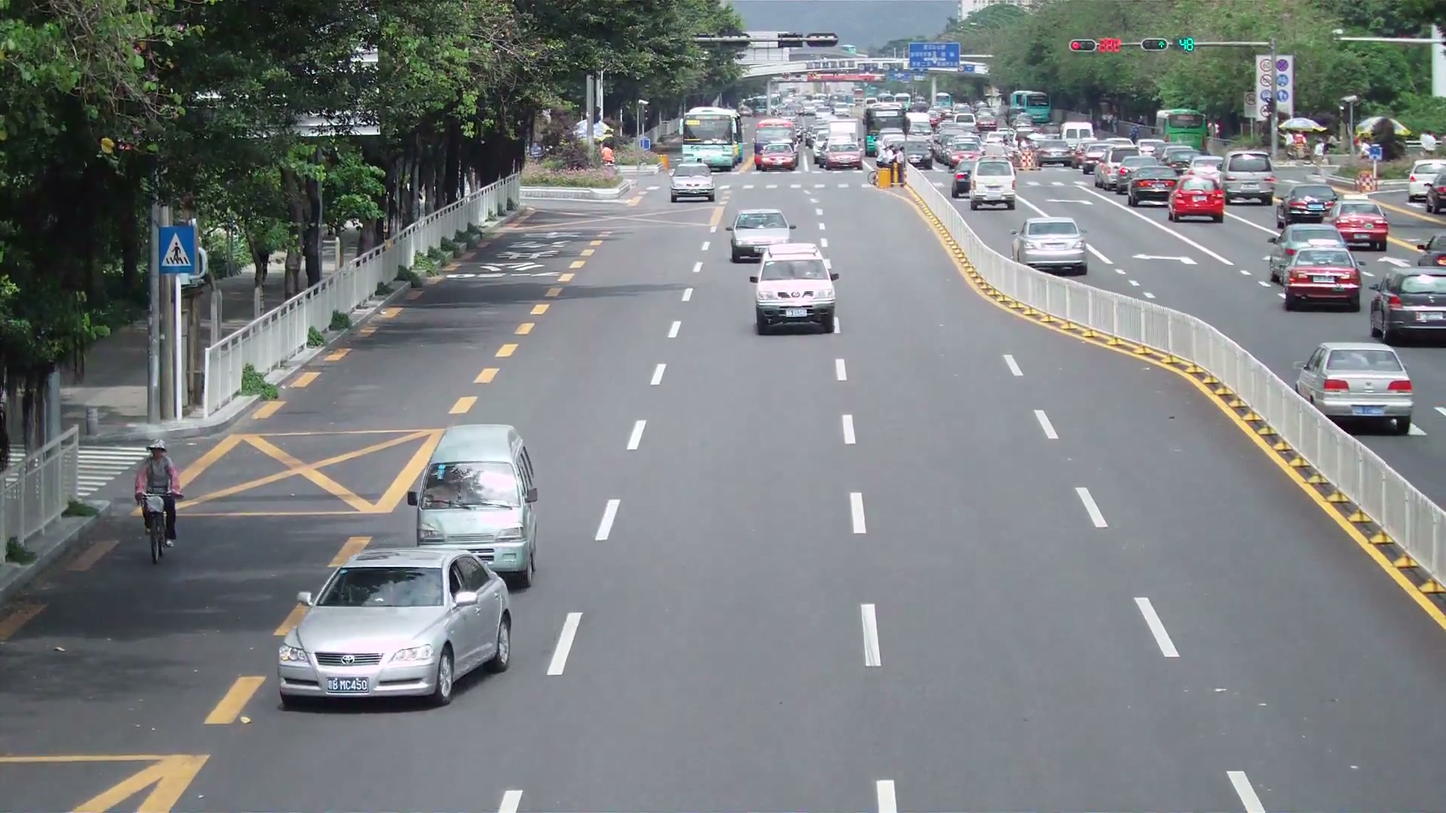bus: (682, 105, 743, 172)
car: (273, 541, 514, 708), (408, 423, 538, 588), (1296, 339, 1415, 434), (752, 253, 838, 335), (1369, 267, 1445, 346), (1280, 241, 1362, 311), (1012, 214, 1087, 275), (728, 208, 792, 262), (1330, 200, 1390, 251), (1276, 183, 1339, 228), (1168, 177, 1227, 223), (970, 159, 1016, 209), (1406, 159, 1445, 212), (1124, 166, 1178, 204), (670, 161, 714, 201)
pedestrian: (135, 440, 183, 539)
truck: (821, 113, 864, 171), (754, 126, 800, 171)
